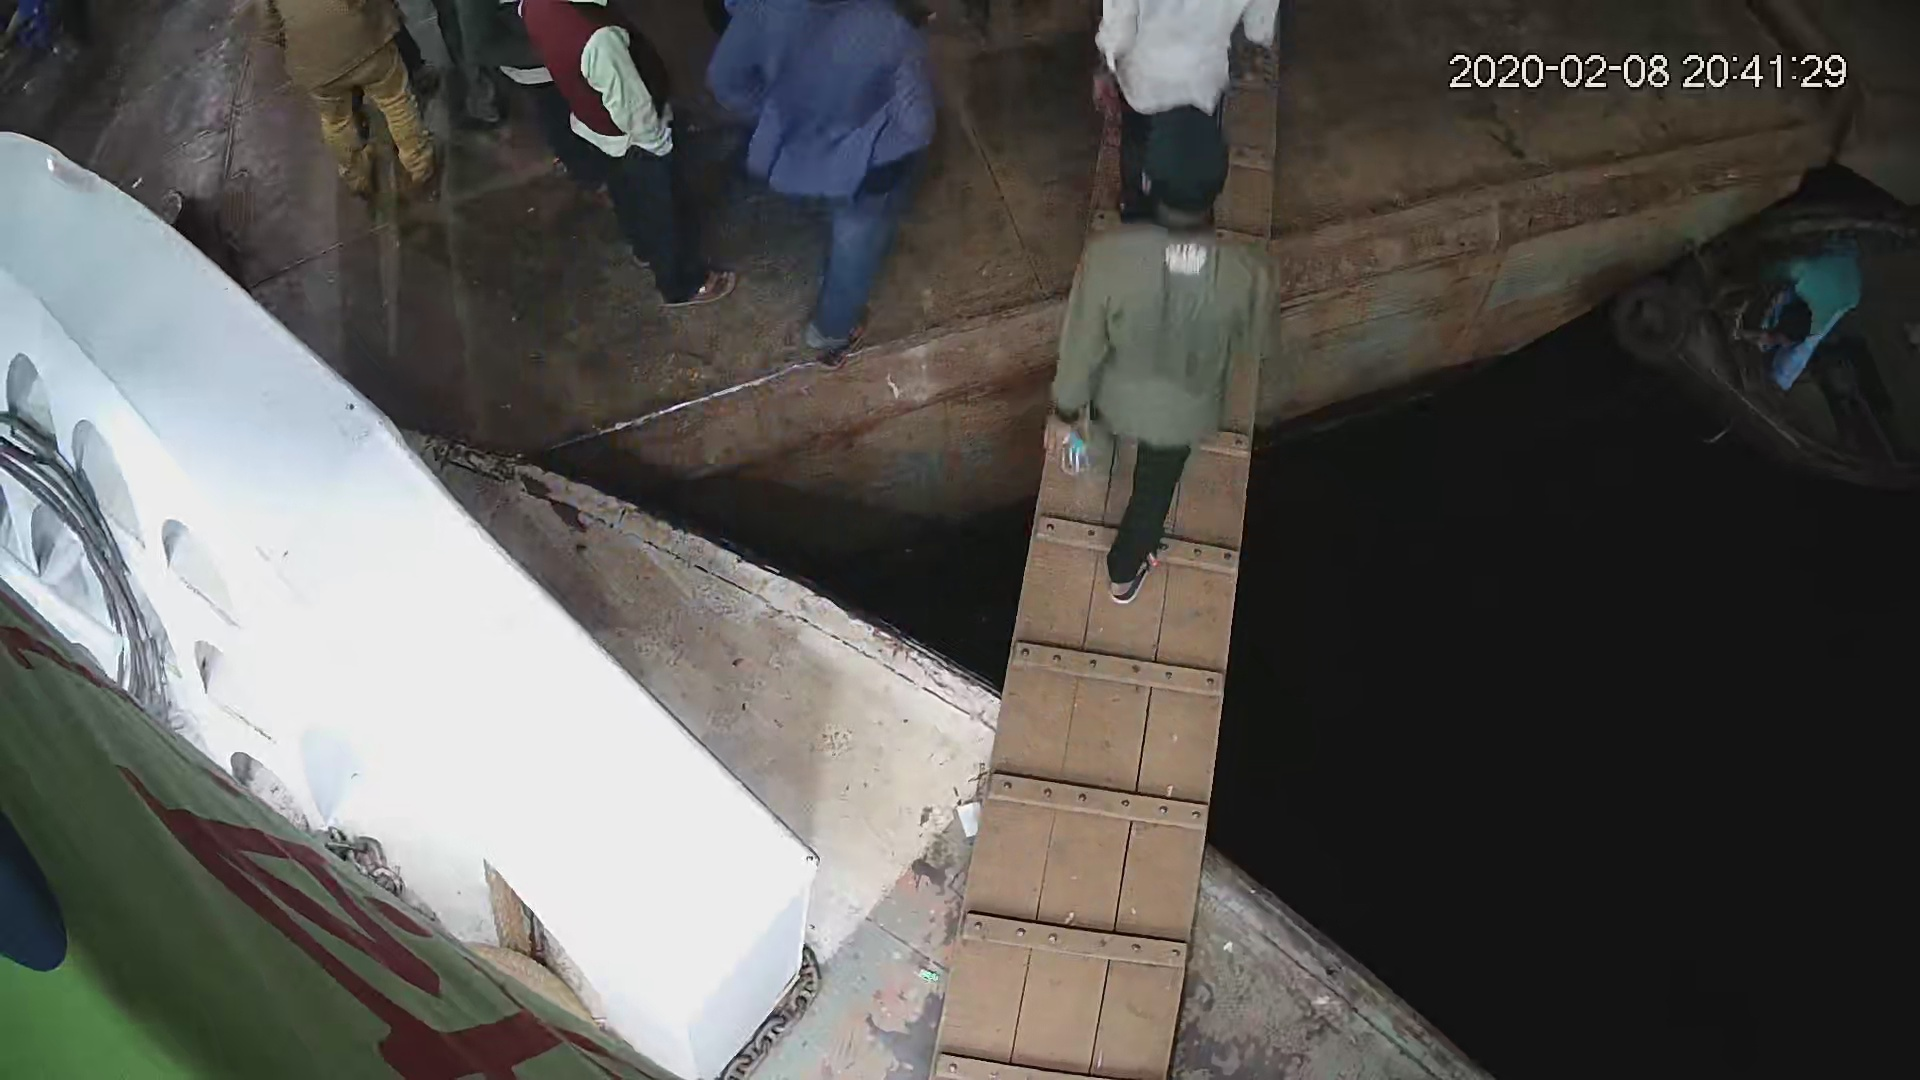person: (1038, 105, 1275, 605), (507, 1, 744, 316), (727, 1, 933, 359), (1733, 241, 1865, 388)
